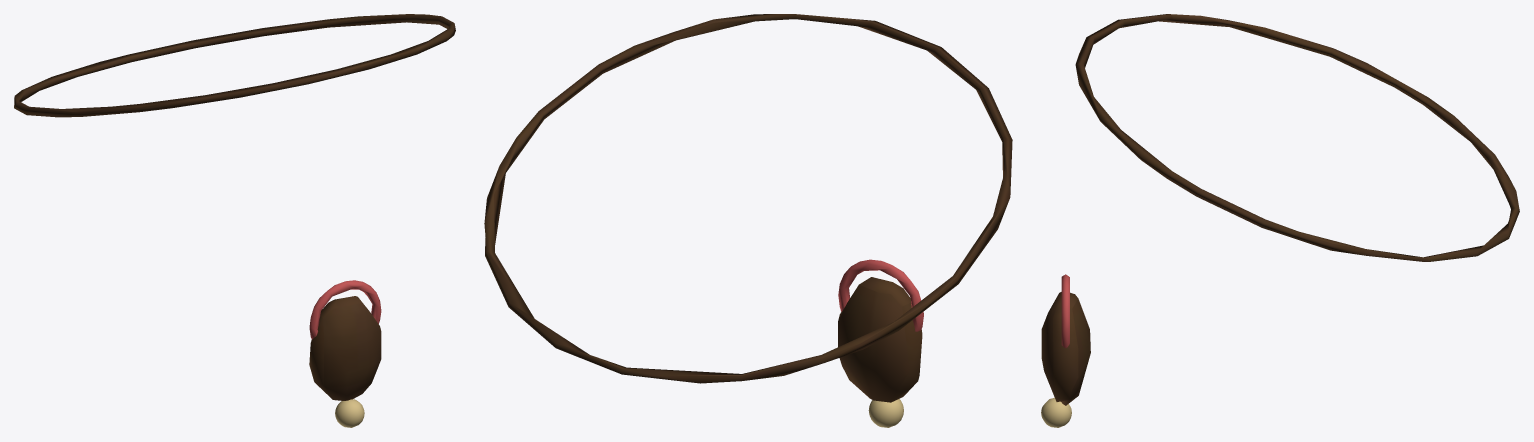
Rendered from acc_charm.glb.
3 views of the same model, side by side, from view 1: azimuth 30°, elevation 25°; view 2: azimuth 150°, elevation 25°; view 3: azimuth 270°, elevation 25° (orthographic). The views are drawn at different scales.
Visible parts, largest first — view 1: acc_charm; view 2: acc_charm; view 3: acc_charm.
Boxes of the visible parts, left/top/right/bottom form: acc_charm: left=14, top=14, right=455, bottom=427; acc_charm: left=484, top=14, right=1012, bottom=427; acc_charm: left=1041, top=14, right=1519, bottom=427.
Bounding box in the file's own units: 0.1506 × 0.1297 × 0.1549.
3 materials, 1 textured.
